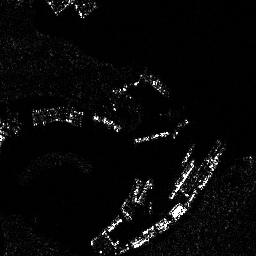ship: (167, 158, 196, 200), (133, 130, 170, 143)
